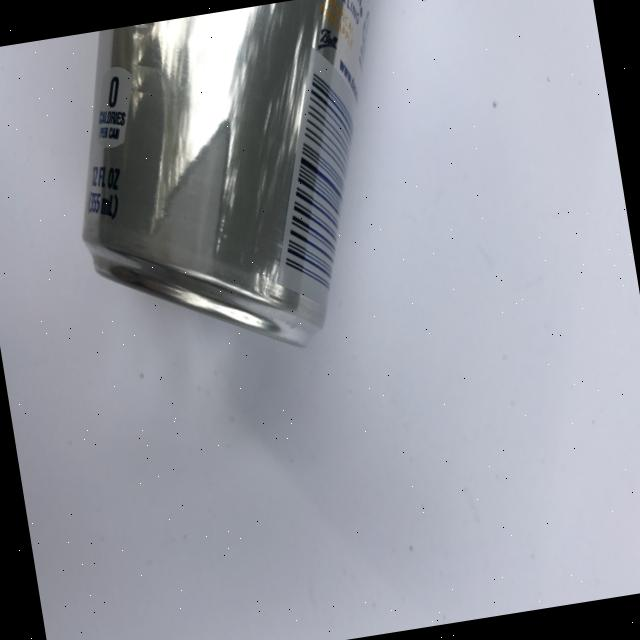metal: (49, 0, 431, 380)
